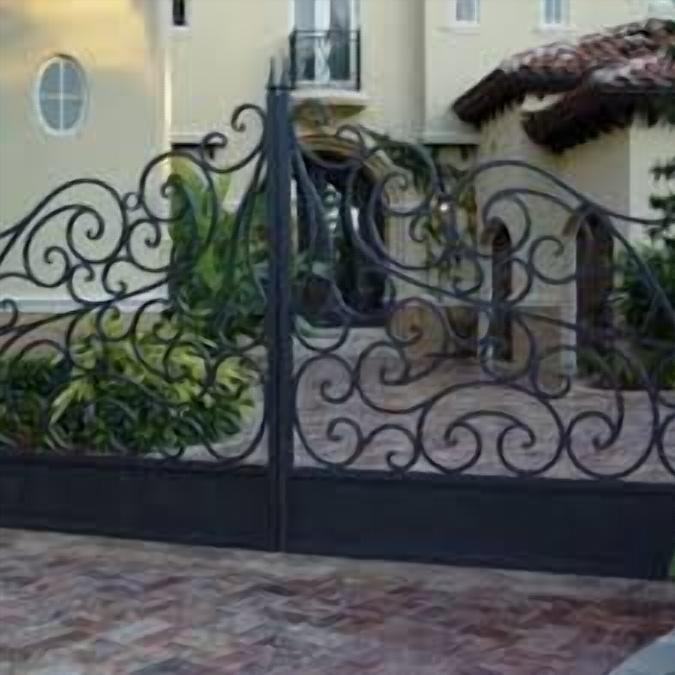Building: (0, 0, 675, 381)
Door: (280, 144, 388, 326)
Gate: (0, 54, 675, 581)
Window-without-grill: (292, 0, 355, 90), (34, 57, 91, 135), (454, 0, 477, 28), (541, 3, 565, 29)
